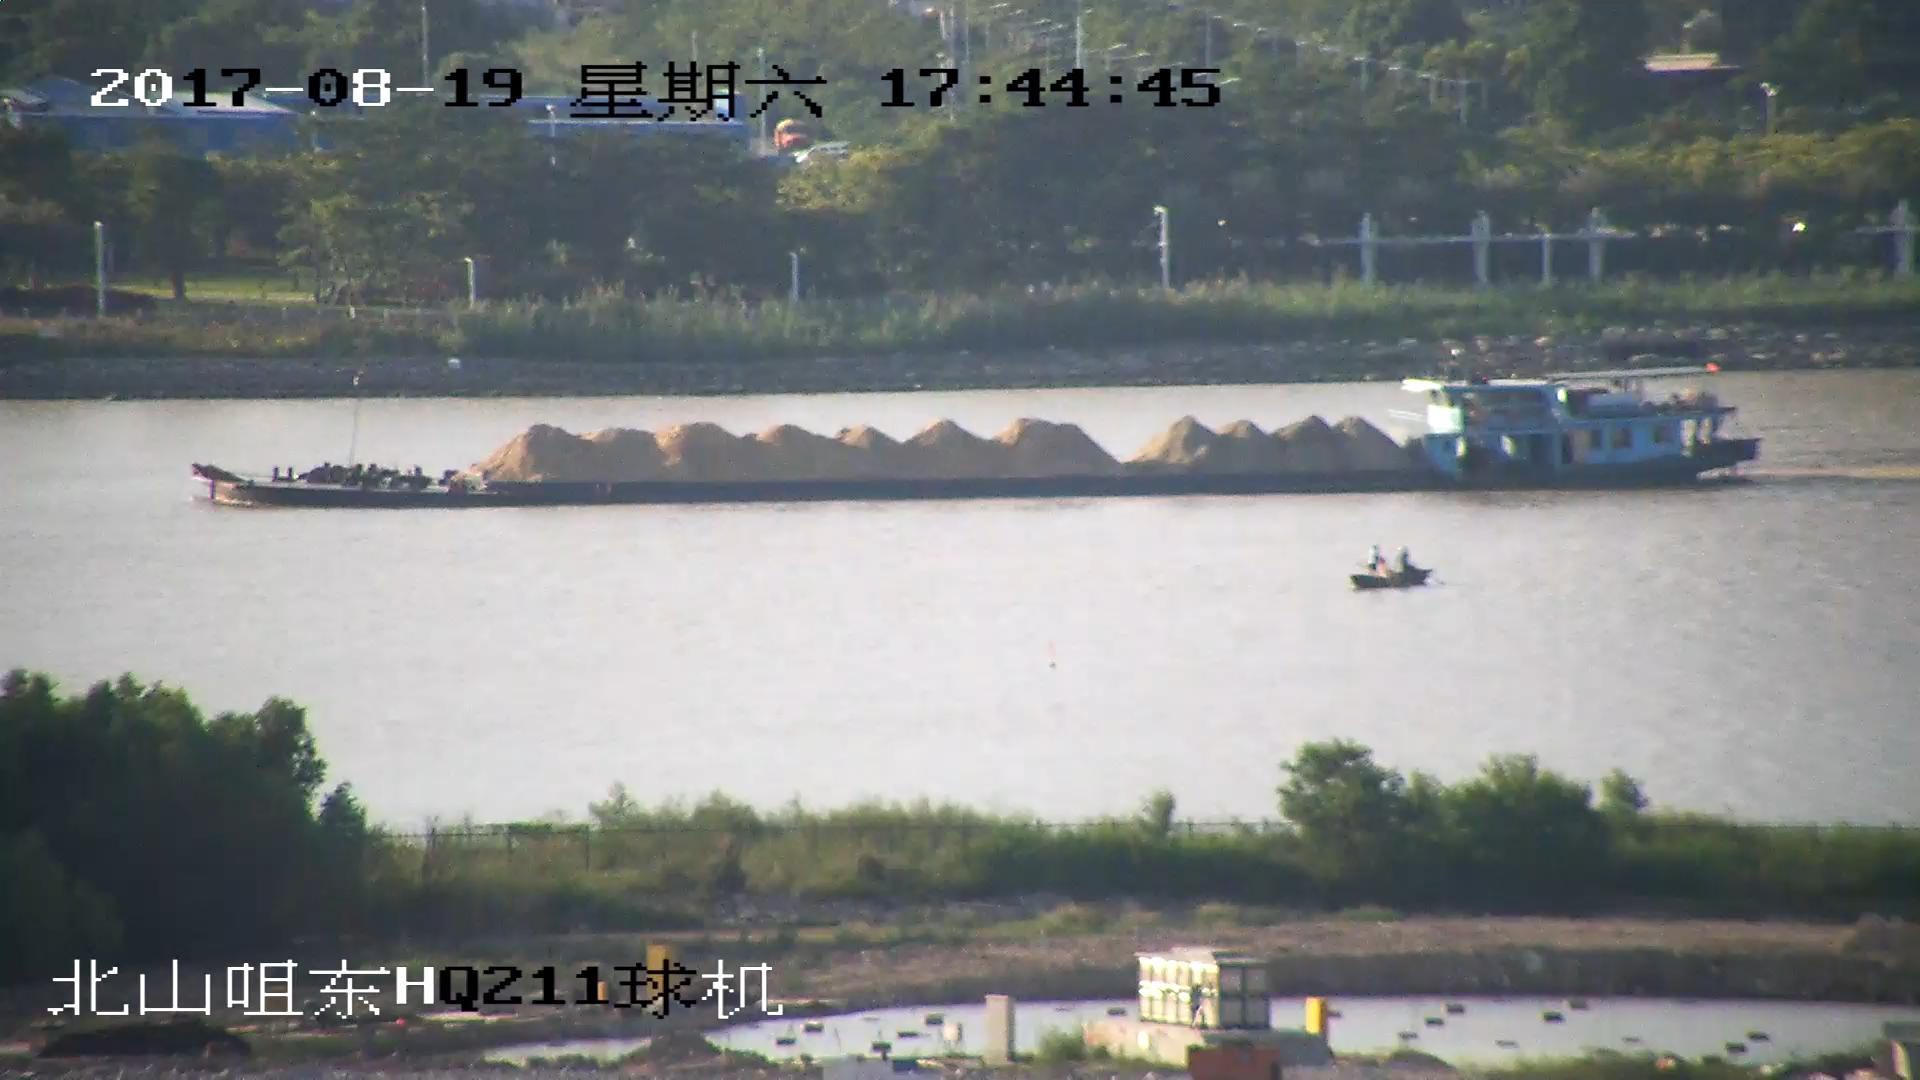fishing boat: (1350, 542, 1434, 590)
ore carrier: (188, 346, 1764, 514)
